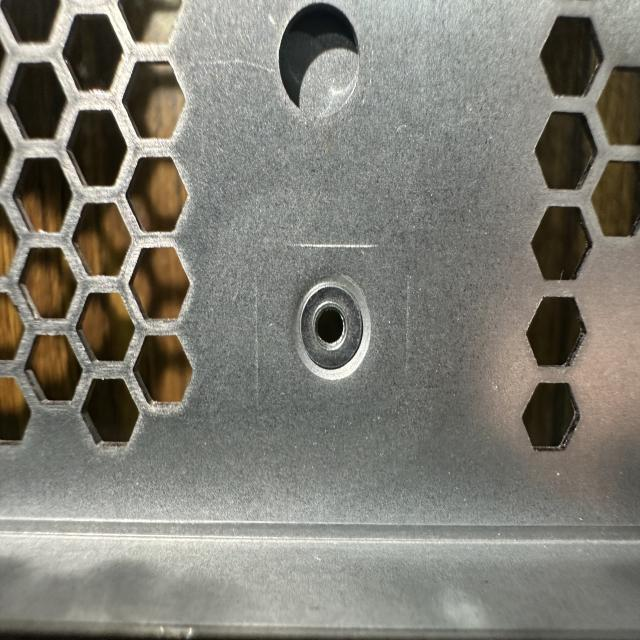Missing screw: (280, 267, 384, 392)
